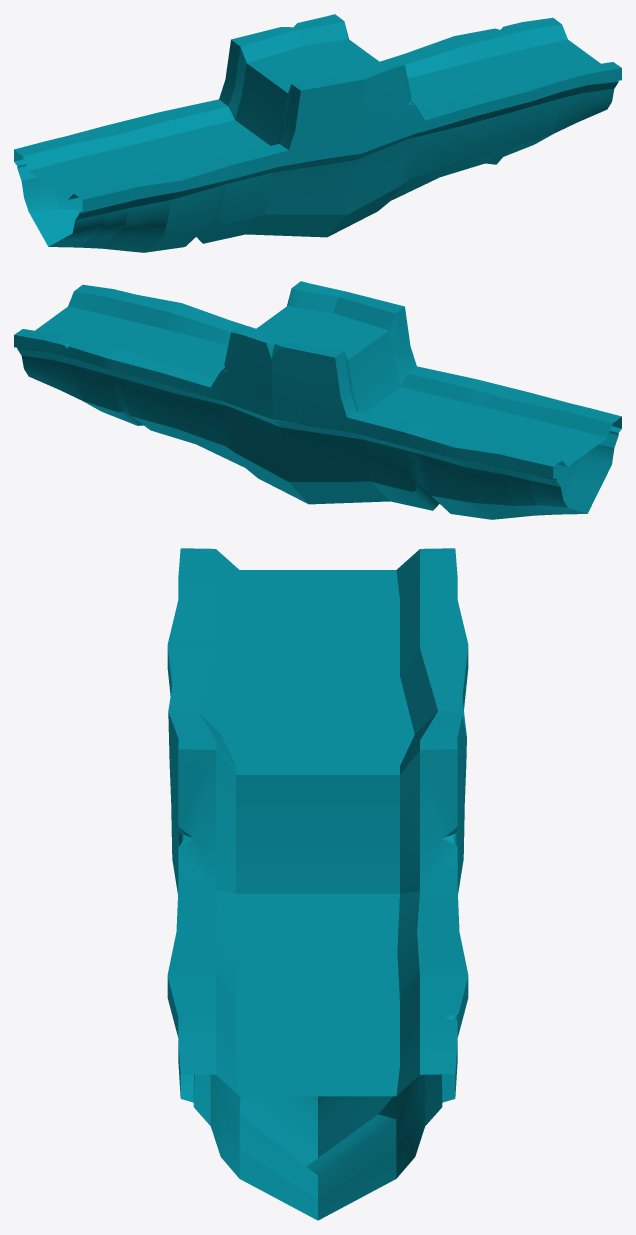
Rendered from Lrg_Modul_Step_up_noC.fbx.
The picture shows the model from 3 angles, top to bottom: view 1: azimuth 30°, elevation 25°; view 2: azimuth 150°, elevation 25°; view 3: azimuth 270°, elevation 25°; orthographic projection. The views are drawn at different scales.
Parts seen in each view (by area): view 1: Lrg_Modul_step_NoC; view 2: Lrg_Modul_step_NoC; view 3: Lrg_Modul_step_NoC.
Boxes of the visible parts, x1=… form: Lrg_Modul_step_NoC: x1=14, y1=14, x2=621, y2=252; Lrg_Modul_step_NoC: x1=14, y1=281, x2=621, y2=519; Lrg_Modul_step_NoC: x1=167, y1=548, x2=468, y2=1220.
Size of the model in its own units: 5.87 by 1.95 by 1.42.
